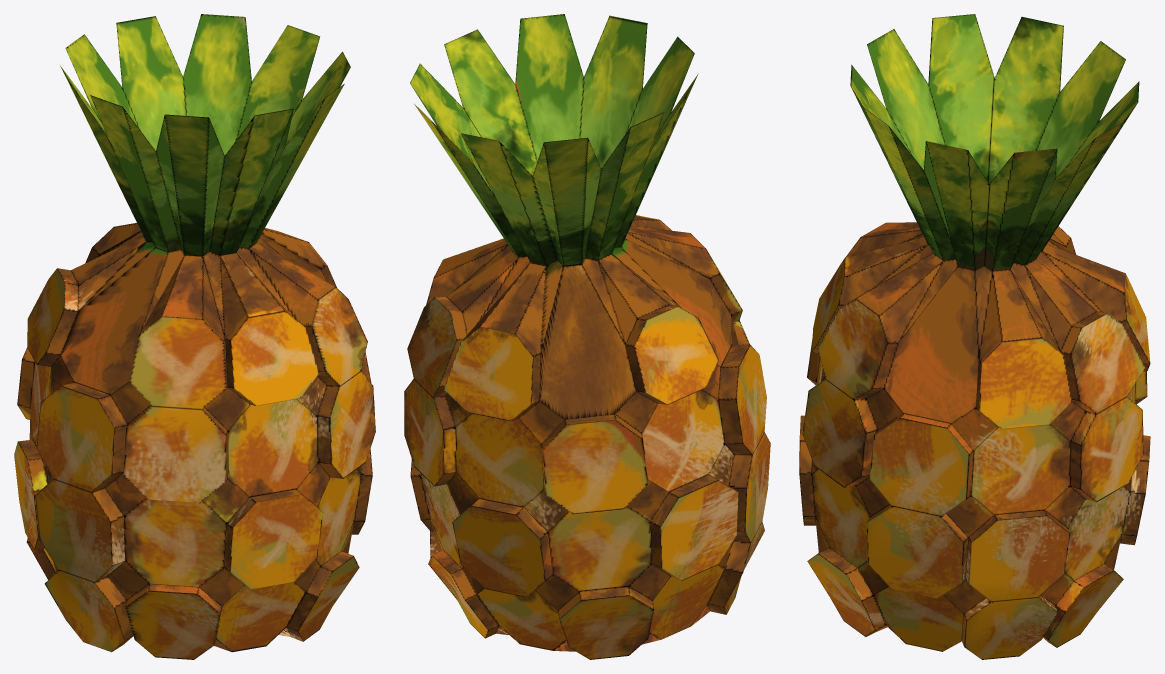
Rendered from pineapple.fbx.
The picture shows the model from 3 angles, left to right: view 1: azimuth 30°, elevation 25°; view 2: azimuth 150°, elevation 25°; view 3: azimuth 270°, elevation 25°; orthographic projection.
Parts seen in each view (by area): view 1: pasted__Pineapple; view 2: pasted__Pineapple; view 3: pasted__Pineapple.
Boxes of the visible parts, x1,y1,x2,y2 form: pasted__Pineapple: (14, 14, 375, 659); pasted__Pineapple: (404, 14, 770, 659); pasted__Pineapple: (799, 14, 1150, 659).
Size of the model in its own units: 1.64 by 2.72 by 1.58.
Materials: 1 (1 with a texture image).
